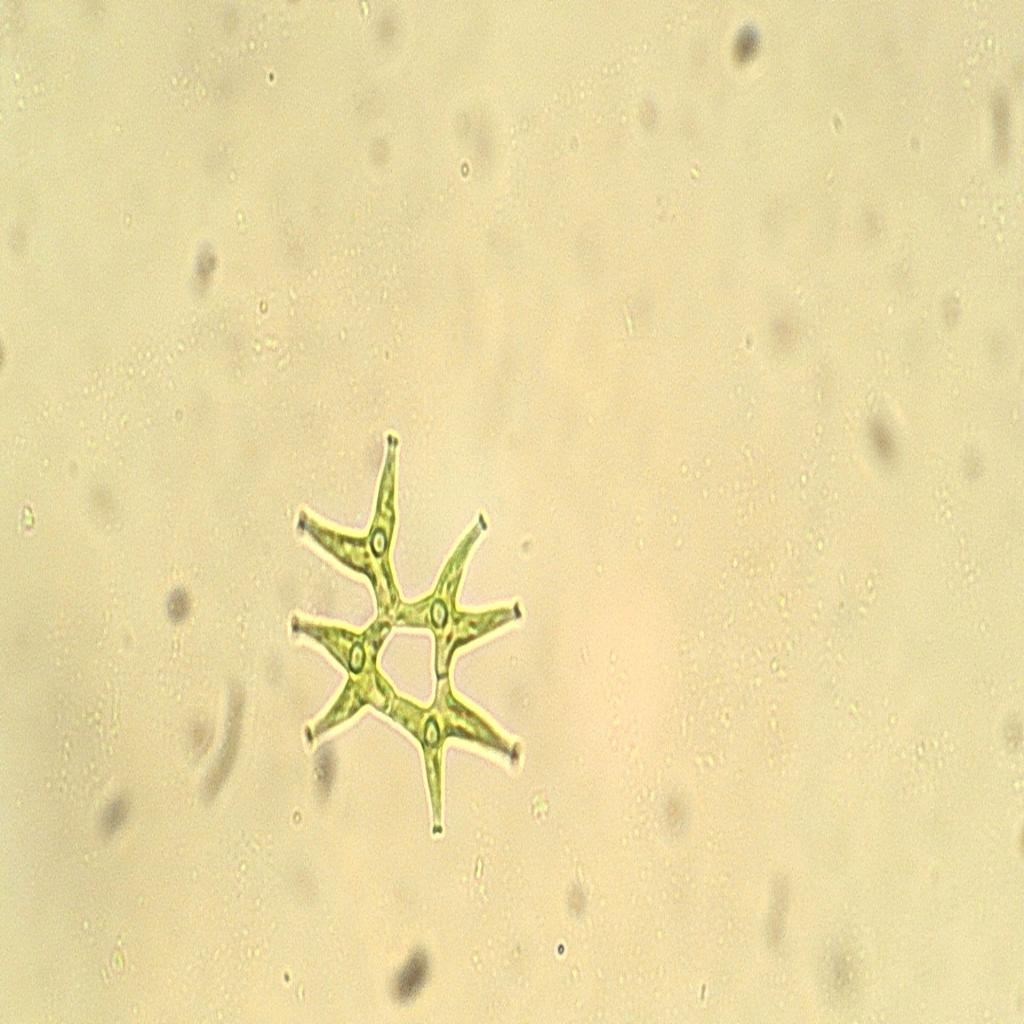Pediastrum_75FI: (283, 420, 531, 842)
